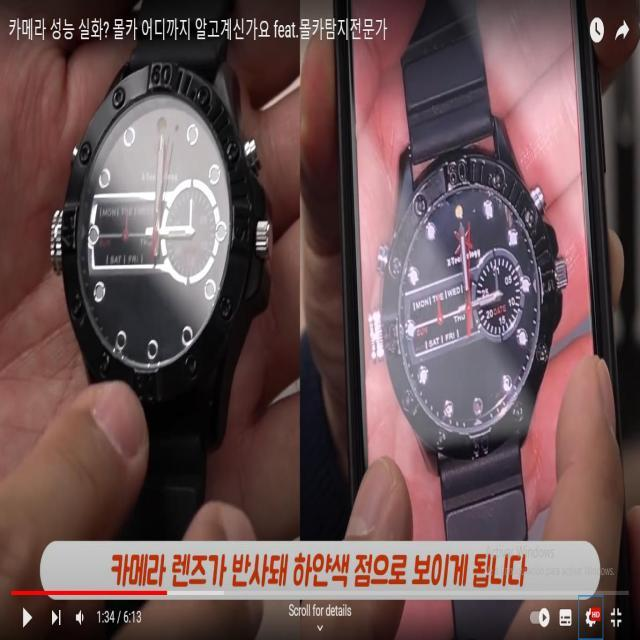hidden camera: (143, 333, 162, 372), (468, 393, 487, 427)
